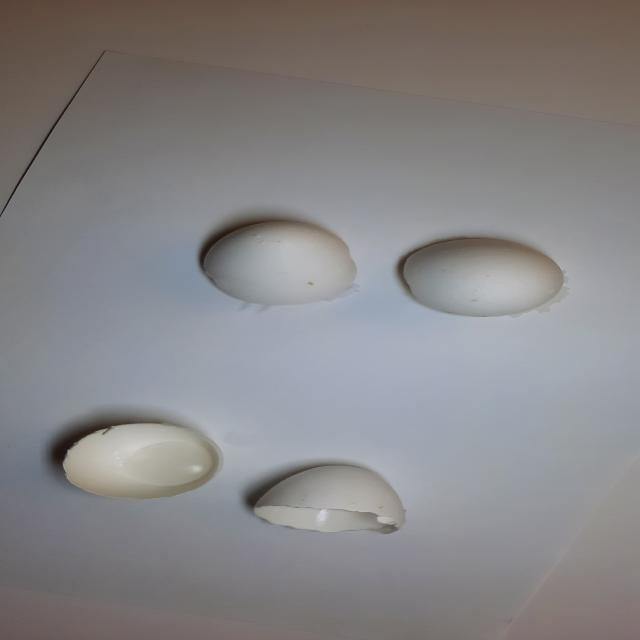egg shell: (380, 227, 603, 327), (180, 211, 370, 319), (49, 416, 235, 507), (244, 460, 417, 540)
